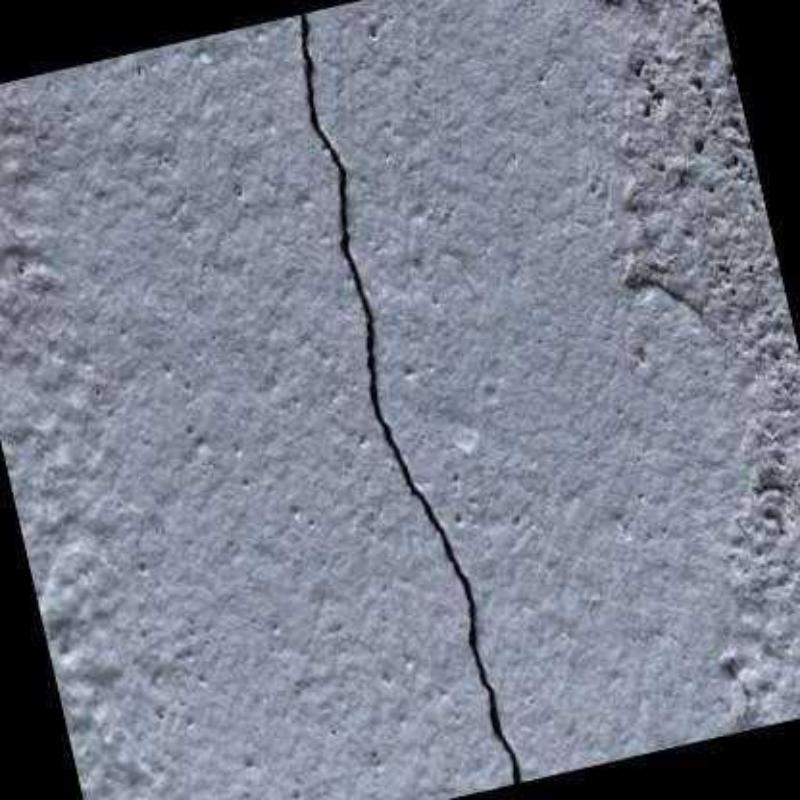pothole: (299, 12, 522, 784)
